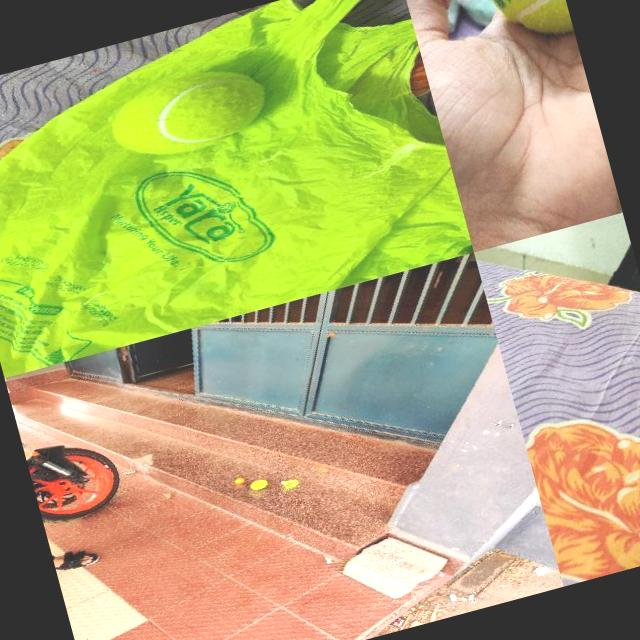tennis-ball: (103, 56, 276, 170), (473, 0, 573, 50), (248, 478, 266, 490)
